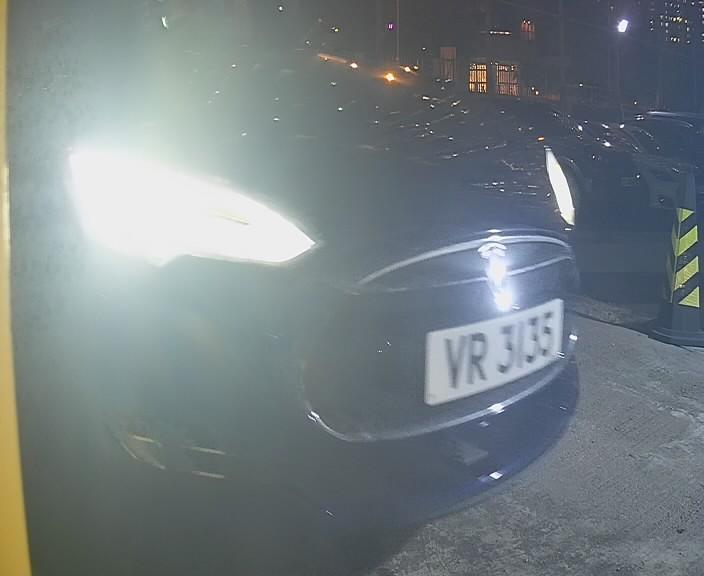privatecar: (2, 2, 593, 536)
